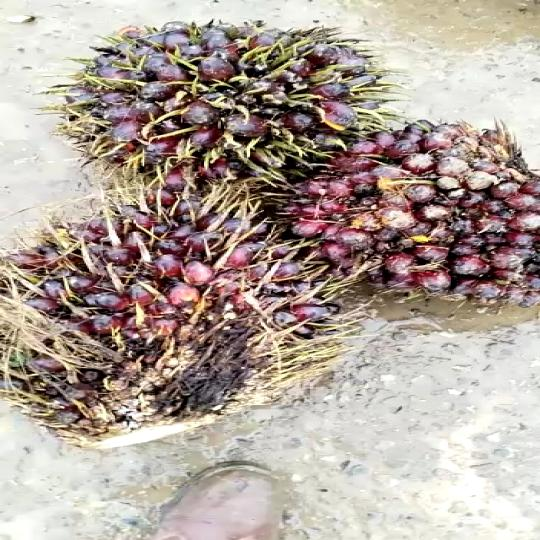kurang masak: (0, 165, 344, 464), (56, 14, 391, 202), (264, 114, 540, 316)
